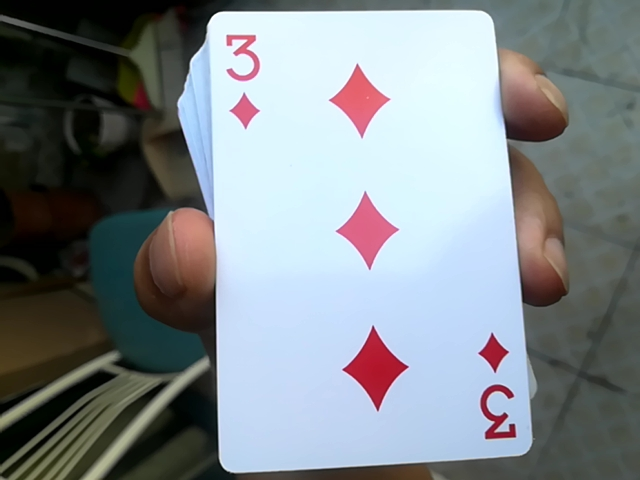fk 3: (181, 7, 516, 465)
